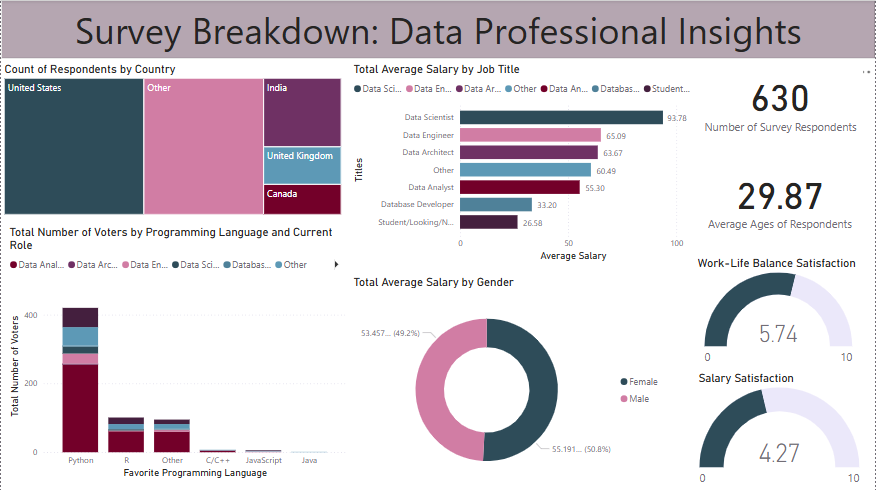

This screenshot's page, from the dashboard's own definition file:
{"tool":"powerbi","page":{"name":"Page 1","canvas":[1280,720],"ordinal":0},"visuals":[{"type":"textbox","box":[0,0,1280.5,86.3],"z":0},{"type":"card","fields":{"Values":["Count(Data Professional Survey.Unique ID)"]},"box":[1018.5,90.3,243.3,114.4],"z":1000},{"type":"card","fields":{"Values":["Avg(Data Professional Survey.Q10 - Current Age)"]},"box":[1022.9,232.7,234.1,114.1],"z":2000},{"type":"barChart","title":"Total Average Salary by Job Title","fields":{"Category":["Data Professional Survey.Q1 - Which Title Best Fits your Current Role?.1"],"Y":["Avg(Data Professional Survey.Average Salary)"],"Series":["Data Professional Survey.Q1 - Which Title Best Fits your Current Role?.1"]},"box":[510.7,90.7,507.8,297.1],"z":3000},{"type":"columnChart","title":"Total Number of Voters by Programming Language and Current Role","fields":{"Category":["Data Professional Survey.Q5 - Favorite Programming Language.1"],"Y":["CountNonNull(Data Professional Survey.Unique ID)"],"Series":["Data Professional Survey.Q1 - Which Title Best Fits your Current Role?.1"]},"box":[7.3,329.3,503.4,376.1],"z":4000},{"type":"treemap","title":"Count of Respondents by Country","fields":{"Values":["CountNonNull(Data Professional Survey.Q11 - Which Country do you live in?.1)"],"Group":["Data Professional Survey.Q11 - Which Country do you live in?.1"]},"box":[0,90.7,503.4,228.3],"z":5000},{"type":"gauge","title":" Work-Life Balance Satisfaction","fields":{"Y":["Avg(Data Professional Survey.Q6 - How Happy are you in your Current Position with the following? (Work/Life Balance))"],"MinValue":["Min(Data Professional Survey.Q6 - How Happy are you in your Current Position with the following? (Work/Life Balance))1"],"MaxValue":["Max(Data Professional Survey.Q6 - How Happy are you in your Current Position with the following? (Work/Life Balance))2"]},"box":[1014.1,374.6,247.3,168.3],"z":5001},{"type":"gauge","title":"Salary Satisfaction","fields":{"Y":["Avg(Data Professional Survey.Q6 - How Happy are you in your Current Position with the following? (Salary))"],"MinValue":["Min(Data Professional Survey.Q6 - How Happy are you in your Current Position with the following? (Salary))1"],"MaxValue":["Max(Data Professional Survey.Q6 - How Happy are you in your Current Position with the following? (Salary))2"]},"box":[1015.6,542.9,247.3,177.1],"z":5002},{"type":"donutChart","title":"Total Average Salary by Gender","fields":{"Category":["Data Professional Survey.Q9 - Male/Female?"],"Y":["Avg(Data Professional Survey.Average Salary)"]},"box":[510.7,402.4,465.4,317.6],"z":5003}]}

Visuals, with their boxes in screenshot pixels (x1, y1, x2, y2), scaled from the page's 1280x720 canvas onto the 876x490 screenshot:
textbox: x1=0 y1=0 x2=875 y2=59
card - Count(Data Professional Survey.Unique ID): x1=697 y1=61 x2=864 y2=139
card - Avg(Data Professional Survey.Q10 - Current Age): x1=700 y1=158 x2=860 y2=236
"Total Average Salary by Job Title" barChart: x1=350 y1=62 x2=697 y2=264
"Total Number of Voters by Programming Language and Current Role" columnChart: x1=5 y1=224 x2=350 y2=480
"Count of Respondents by Country" treemap: x1=0 y1=62 x2=345 y2=217
" Work-Life Balance Satisfaction" gauge: x1=694 y1=255 x2=863 y2=369
"Salary Satisfaction" gauge: x1=695 y1=369 x2=864 y2=489
"Total Average Salary by Gender" donutChart: x1=350 y1=274 x2=668 y2=489
